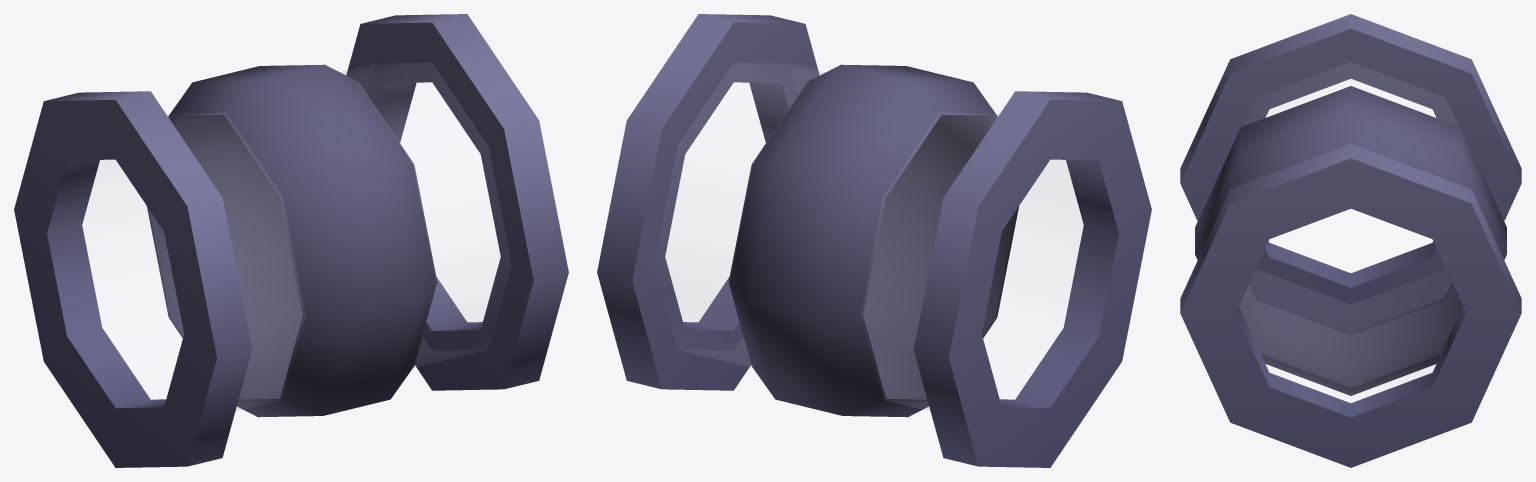
The model's file is pipe_glass_large_bump.glb.
The picture shows the model from 3 angles, left to right: view 1: azimuth 30°, elevation 25°; view 2: azimuth 150°, elevation 25°; view 3: azimuth 270°, elevation 25°; orthographic projection. The views are drawn at different scales.
Parts seen in each view (by area): view 1: pipe-glass-large-bump; view 2: pipe-glass-large-bump; view 3: pipe-glass-large-bump.
Part boxes in pixels (x1,y1,x2,y2): pipe-glass-large-bump: (14, 14, 568, 467); pipe-glass-large-bump: (597, 14, 1151, 467); pipe-glass-large-bump: (1180, 14, 1521, 467).
Bounding box in the file's own units: 1 × 1 × 1.
Materials: 2 (1 with a texture image).
